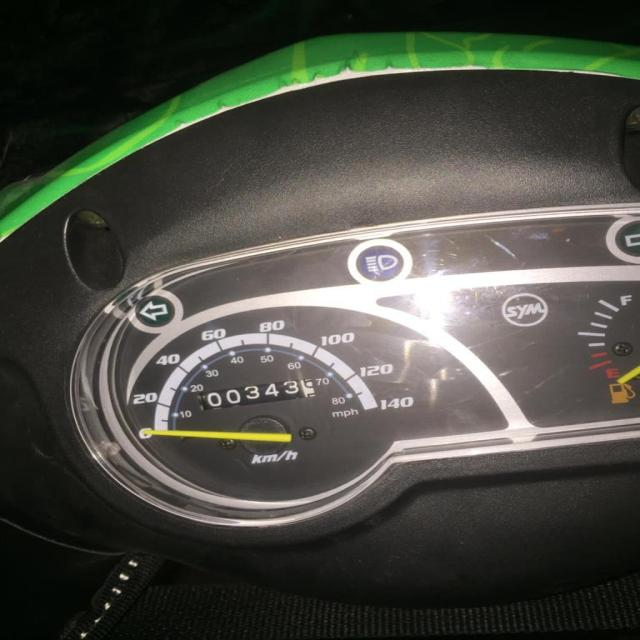odometer: (191, 374, 317, 413)
